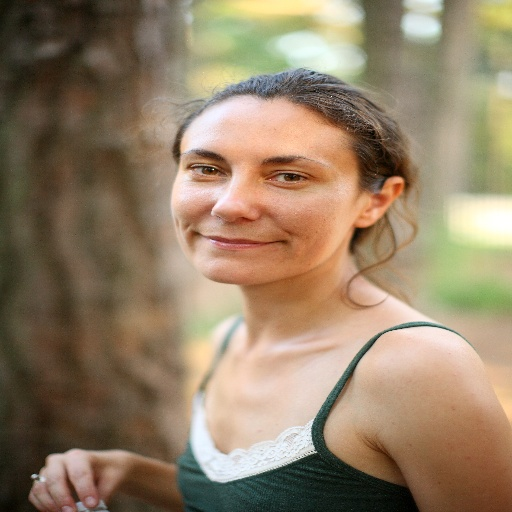hand: (0, 452, 176, 510)
